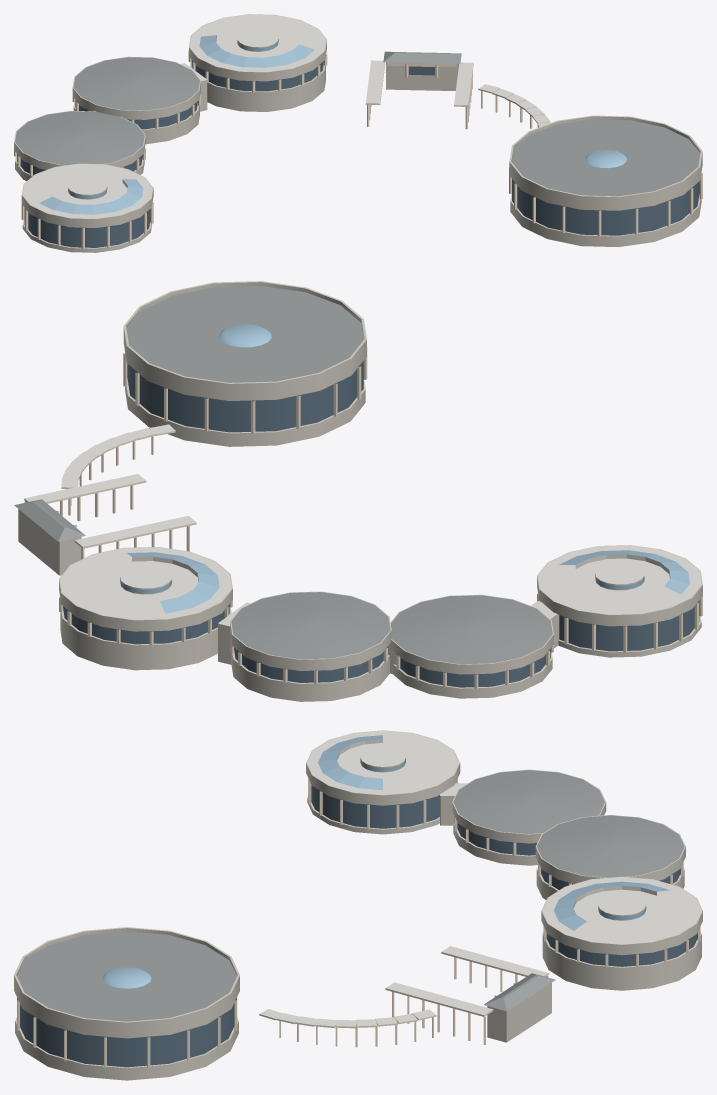
Rendered from atl-carter-center.glb.
3 renders of one model, top to bottom at view 1: azimuth 30°, elevation 25°; view 2: azimuth 150°, elevation 25°; view 3: azimuth 270°, elevation 25°, orthographic. The views are drawn at different scales.
Visible parts, largest first — view 1: The Carter Center; view 2: The Carter Center; view 3: The Carter Center.
Part boxes in pixels (left/top/right/bottom): The Carter Center: left=14, top=14, right=702, bottom=252; The Carter Center: left=14, top=281, right=702, bottom=701; The Carter Center: left=14, top=730, right=702, bottom=1080.
Bounding box in the file's own units: 194 × 17 × 182.
